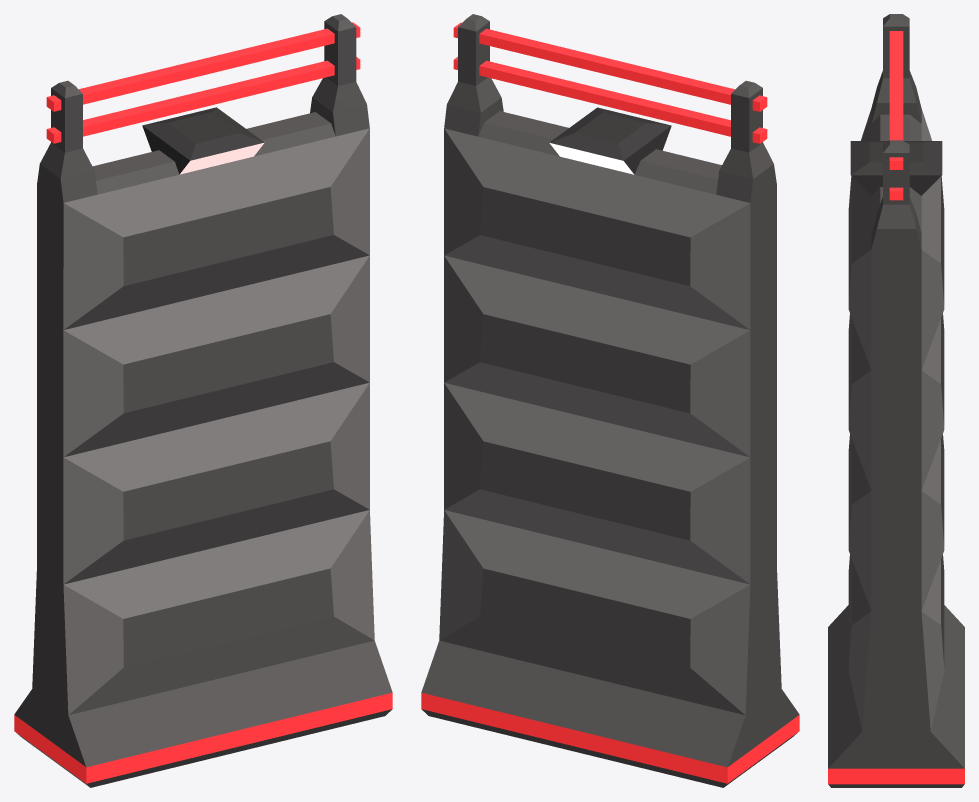
File: scifi_scifi-barrier-large-electric.fbx
3 renders of one model, left to right at view 1: azimuth 30°, elevation 25°; view 2: azimuth 150°, elevation 25°; view 3: azimuth 270°, elevation 25°, orthographic. The views are drawn at different scales.
Parts seen in each view (by area): view 1: scifi_scifi_barrier_large_electric; view 2: scifi_scifi_barrier_large_electric; view 3: scifi_scifi_barrier_large_electric.
Boxes of the visible parts, bbox=[...] form: scifi_scifi_barrier_large_electric: bbox=[14, 14, 392, 787]; scifi_scifi_barrier_large_electric: bbox=[421, 14, 799, 787]; scifi_scifi_barrier_large_electric: bbox=[828, 14, 964, 787].
Size of the model in its own units: 94.87 by 200 by 38.68.
